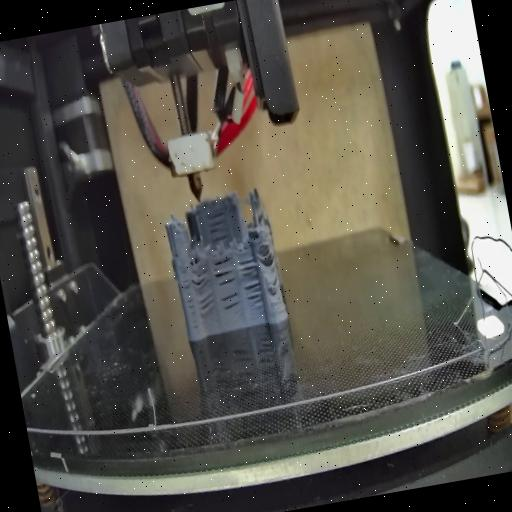cracks: (212, 256, 244, 314), (238, 254, 266, 310), (180, 270, 200, 331), (204, 203, 230, 244), (196, 290, 218, 317), (190, 266, 212, 290), (259, 243, 276, 265), (172, 244, 182, 264), (270, 273, 280, 289)
